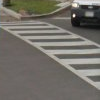crosswalk: (0, 25, 99, 87)
